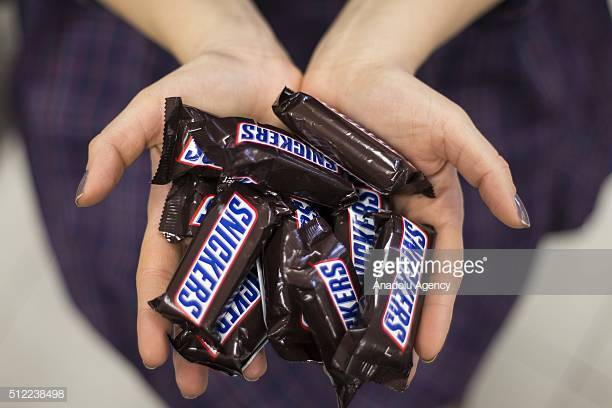snickers: (177, 193, 255, 317), (177, 194, 252, 317), (384, 219, 427, 342), (384, 218, 425, 342), (236, 120, 337, 170), (316, 262, 360, 328), (348, 187, 376, 272), (350, 187, 376, 272)
